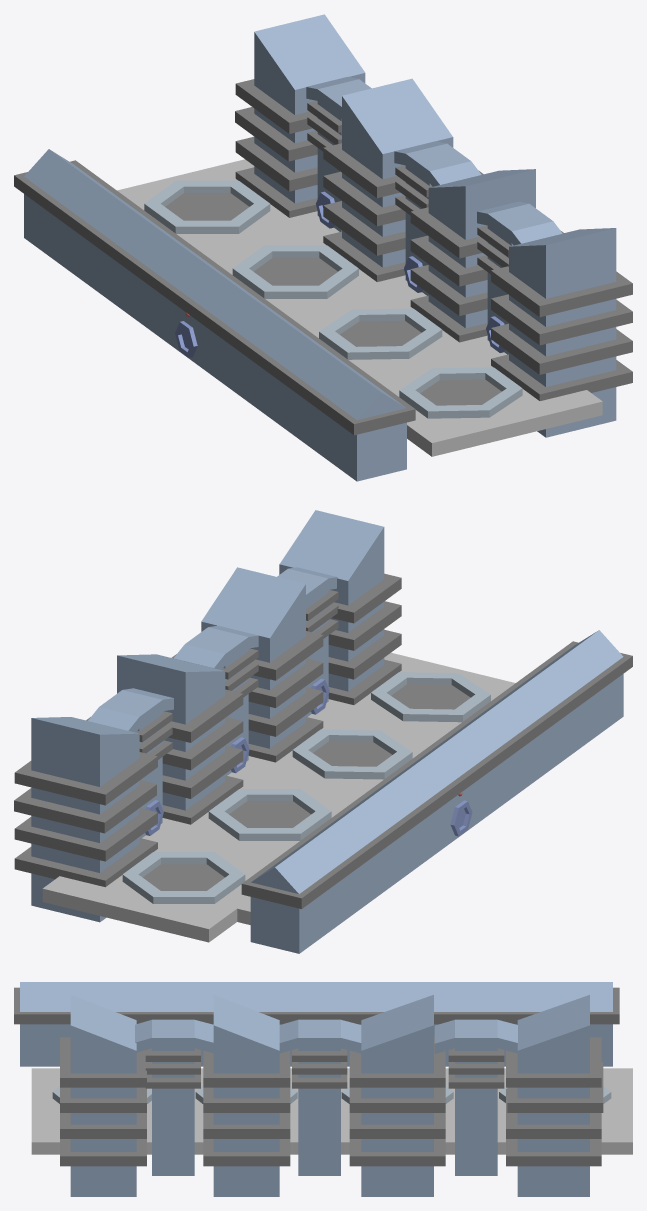
File: piste d'atterissage 03.fbx
The picture shows the model from 3 angles, top to bottom: view 1: azimuth 30°, elevation 25°; view 2: azimuth 150°, elevation 25°; view 3: azimuth 270°, elevation 25°; orthographic projection. The views are drawn at different scales.
Visible parts, largest first — view 1: Cube.022, Cube.025, Cube.023, Cube.038, Cube.001, Cube.024, Cube.010, Cylinder.010, Cylinder, Cylinder.008, Cylinder.001, Cube.039 (+21 smaller); view 2: Cube.022, Cube.038, Cube.023, Cube.039, Cube.010, Cube.025, Cube.001, Cylinder.010, Cylinder, Cylinder.001, Cylinder.008, Cube (+21 smaller); view 3: Cube.022, Cube.001, Cube.038, Cube.010, Cube.025, Cube.043, Cube.012, Cube.033, Cube.023, Cube.039, Cube.024, Cube.034 (+26 smaller).
Boxes of the visible parts, left/top/right/bottom form: Cube.022: left=24, top=149, right=406, bottom=481; Cube.025: left=509, top=228, right=616, bottom=437; Cube.023: left=14, top=160, right=415, bottom=435; Cube.038: left=254, top=14, right=365, bottom=203; Cube.001: left=342, top=78, right=453, bottom=267; Cube.024: left=374, top=349, right=602, bottom=456; Cube.010: left=428, top=169, right=535, bottom=328; Cylinder.010: left=144, top=180, right=270, bottom=233; Cylinder: left=232, top=245, right=358, bottom=298; Cylinder.008: left=399, top=367, right=522, bottom=418; Cylinder.001: left=319, top=308, right=442, bottom=359; Cube.039: left=117, top=159, right=325, bottom=255; Cube.022: left=250, top=630, right=623, bottom=953; Cube.038: left=31, top=717, right=139, bottom=922; Cube.023: left=241, top=641, right=632, bottom=909; Cube.039: left=42, top=832, right=273, bottom=942; Cube.010: left=201, top=567, right=305, bottom=748; Cube.025: left=279, top=510, right=384, bottom=691; Cube.001: left=117, top=654, right=225, bottom=810; Cylinder.010: left=122, top=852, right=245, bottom=903; Cylinder: left=208, top=789, right=331, bottom=840; Cylinder.001: left=292, top=729, right=412, bottom=779; Cylinder.008: left=371, top=672, right=490, bottom=722; Cube: left=156, top=769, right=358, bottom=860; Cube.022: left=20, top=982, right=612, bottom=1066; Cube.001: left=361, top=995, right=433, bottom=1196; Cube.038: left=517, top=995, right=589, bottom=1196; Cube.010: left=213, top=995, right=279, bottom=1196; Cube.025: left=70, top=995, right=136, bottom=1196; Cube.043: left=434, top=1019, right=517, bottom=1175; Cube.012: left=279, top=1019, right=361, bottom=1175; Cube.033: left=135, top=1019, right=213, bottom=1175; Cube.023: left=14, top=987, right=619, bottom=1024; Cube.039: left=497, top=1068, right=632, bottom=1154; Cube.024: left=31, top=1068, right=151, bottom=1154; Cube.034: left=506, top=1037, right=601, bottom=1087.
Bounding box in the file's own units: 558 × 337 × 1103.
